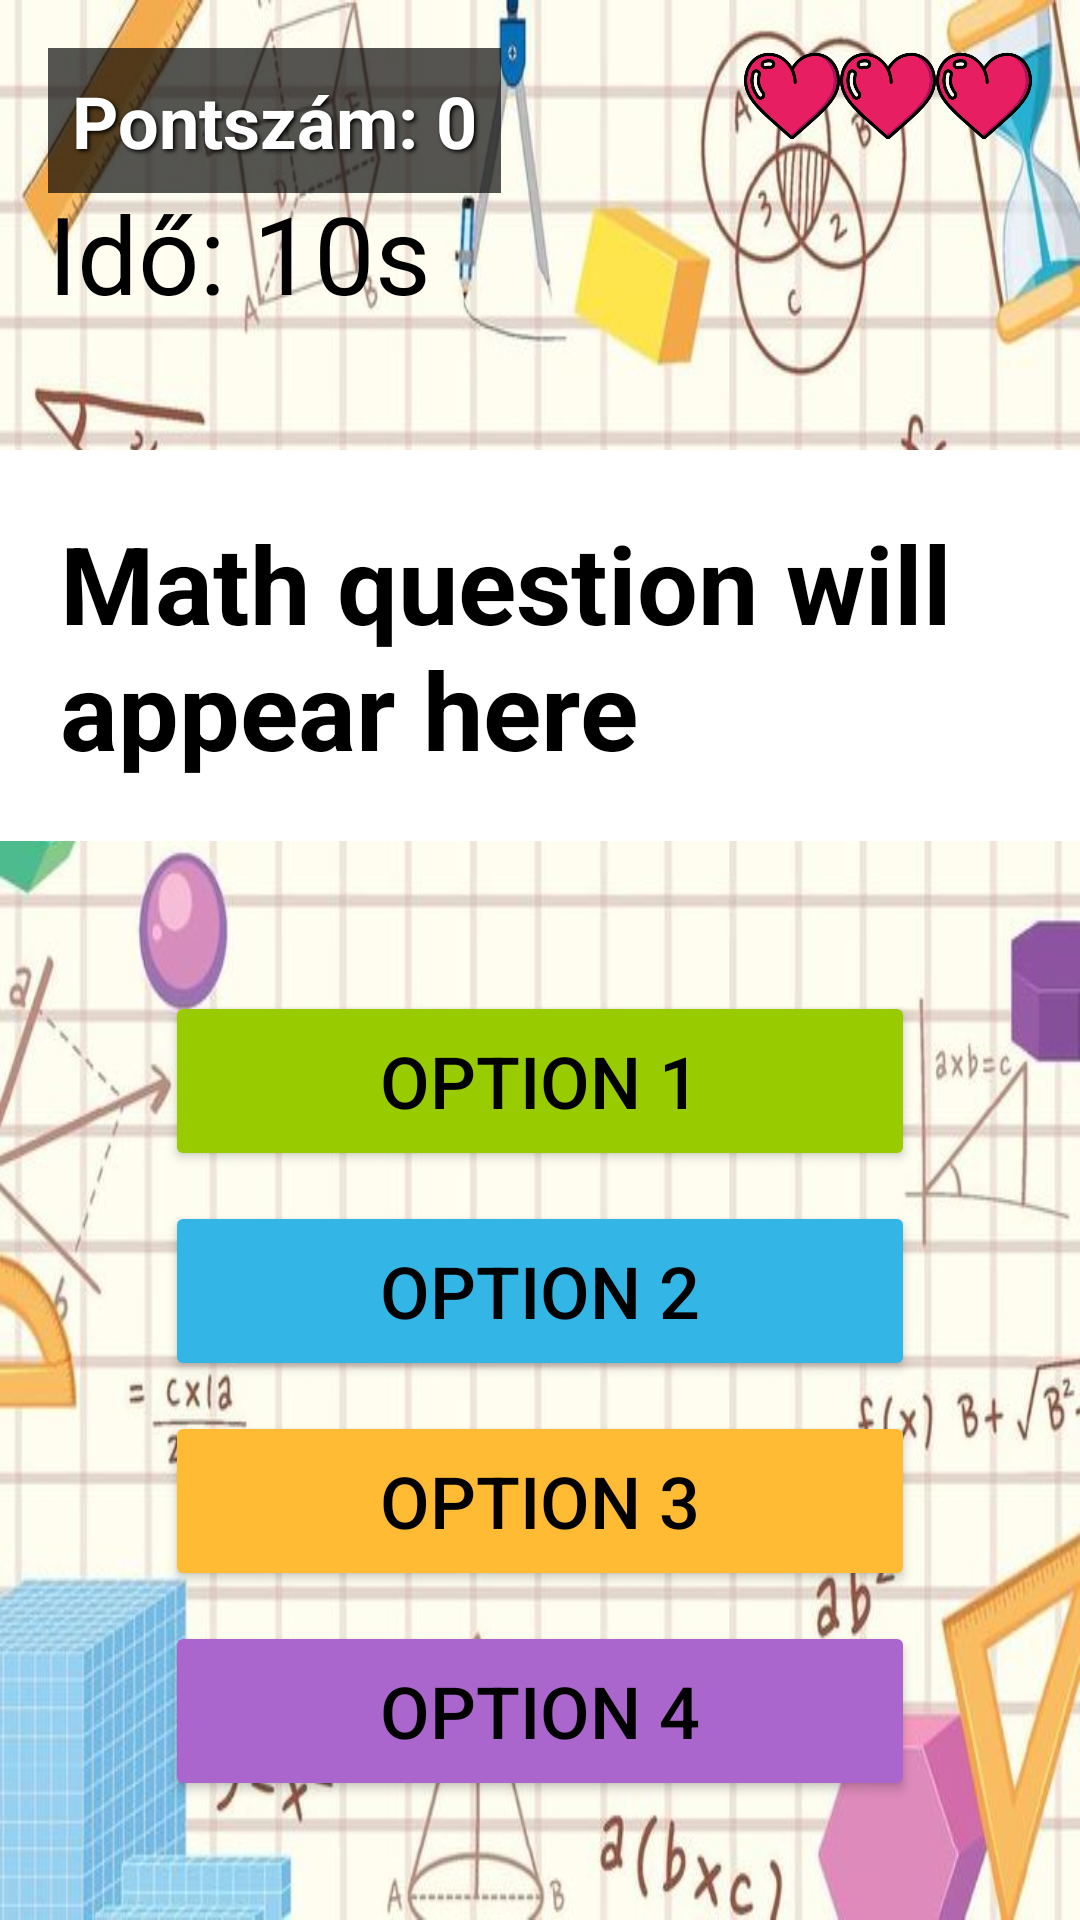

Screen size 1080px×1920px. Icon name, then its center in pixels as (x,y):
heart full: (792,96), (888,96), (984,96)
